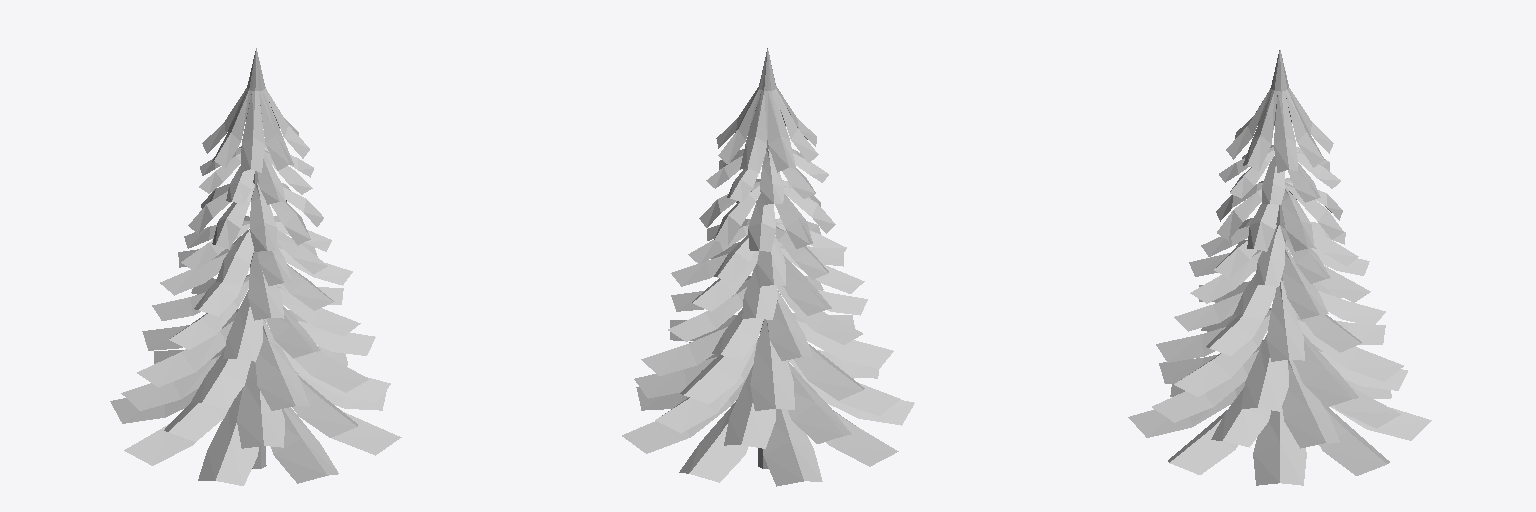
The model's file is Fir_Tree.obj.
3 views of the same model, side by side, from view 1: azimuth 30°, elevation 25°; view 2: azimuth 150°, elevation 25°; view 3: azimuth 270°, elevation 25° (orthographic).
Parts seen in each view (by area): view 1: Fir-tree_Cylinder.002; view 2: Fir-tree_Cylinder.002; view 3: Fir-tree_Cylinder.002.
Part boxes in pixels (left/top/right/bottom): Fir-tree_Cylinder.002: left=110, top=48, right=401, bottom=485; Fir-tree_Cylinder.002: left=622, top=48, right=914, bottom=486; Fir-tree_Cylinder.002: left=1128, top=50, right=1431, bottom=485.
Size of the model in its own units: 3.77 by 5.71 by 3.77.